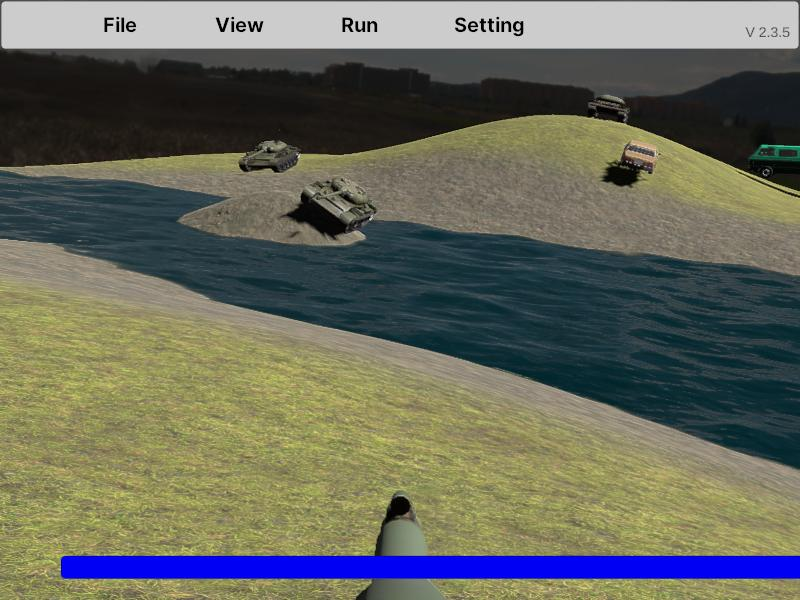Tank: (301, 176, 377, 232), (238, 139, 301, 173), (587, 94, 630, 123)
car: (749, 145, 800, 180), (620, 141, 659, 174)
